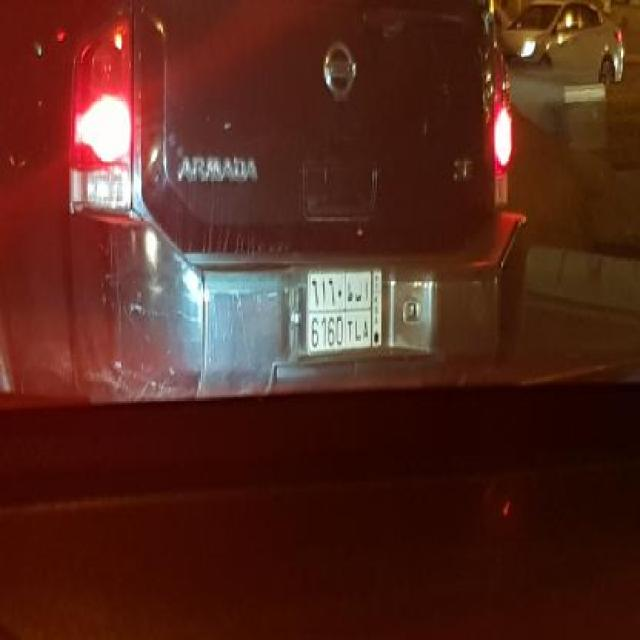license_plate: (305, 268, 384, 357)
